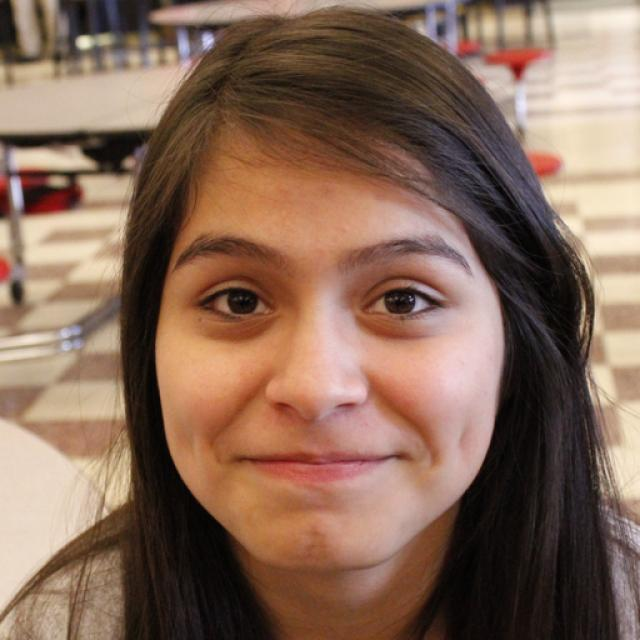content: (158, 145, 510, 575)
